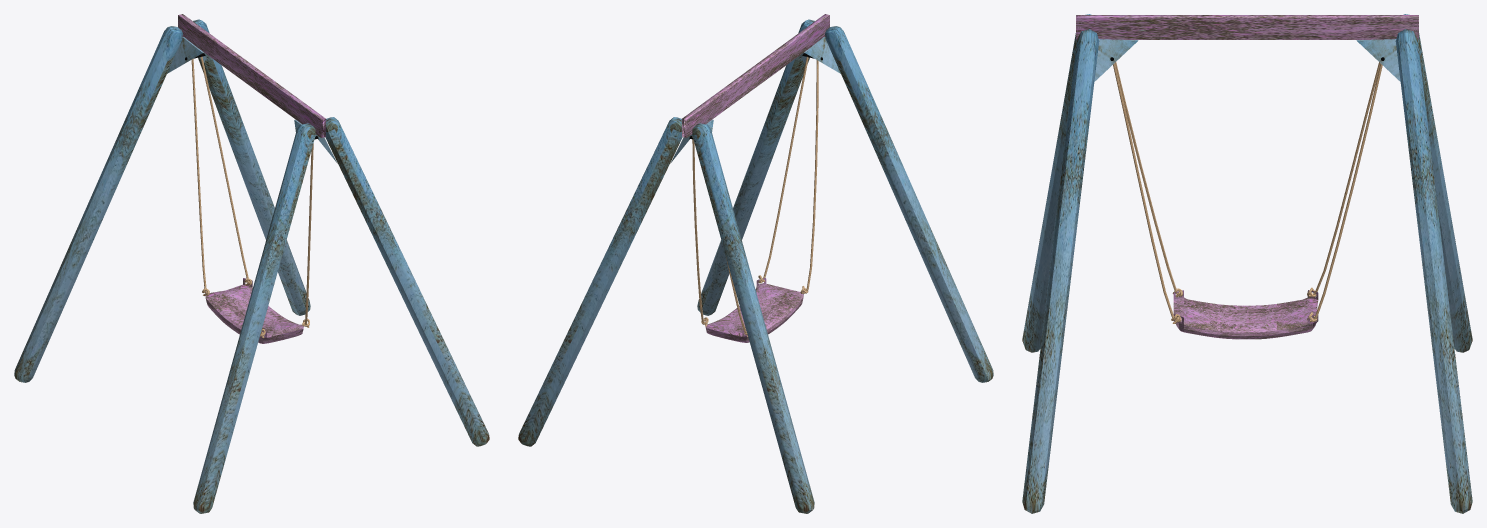
The model's file is columpioPARADELFI.fbx.
3 views of the same model, side by side, from view 1: azimuth 30°, elevation 25°; view 2: azimuth 150°, elevation 25°; view 3: azimuth 270°, elevation 25° (orthographic). The views are drawn at different scales.
Parts seen in each view (by area): view 1: Cube.003, Cube, Cube.001, Cube.002, Circle; view 2: Cube.003, Cube, Cube.001, Cube.002, Circle, Cube.005; view 3: Cube.003, Cube, Cube.001, Cube.002, Circle, Cube.005.
Part boxes in pixels (x1,y1,x2,y2): Cube.003: (14,19,489,513); Cube: (178,14,325,137); Cube.001: (205,278,304,343); Cube.002: (191,56,313,327); Circle: (167,37,337,163); Cube.003: (518,19,993,513); Cube: (682,14,829,137); Cube.001: (705,278,803,342); Cube.002: (692,56,808,336); Circle: (670,37,840,163); Cube.005: (800,60,818,293); Cube.003: (1022,14,1472,513); Cube: (1076,15,1418,39); Cube.001: (1173,290,1318,339); Cube.002: (1113,62,1382,323); Circle: (1094,39,1400,81); Cube.005: (1115,62,1182,297).
Size of the model in its own units: 381 by 430 by 423.
Materials: 7 (6 with a texture image).
